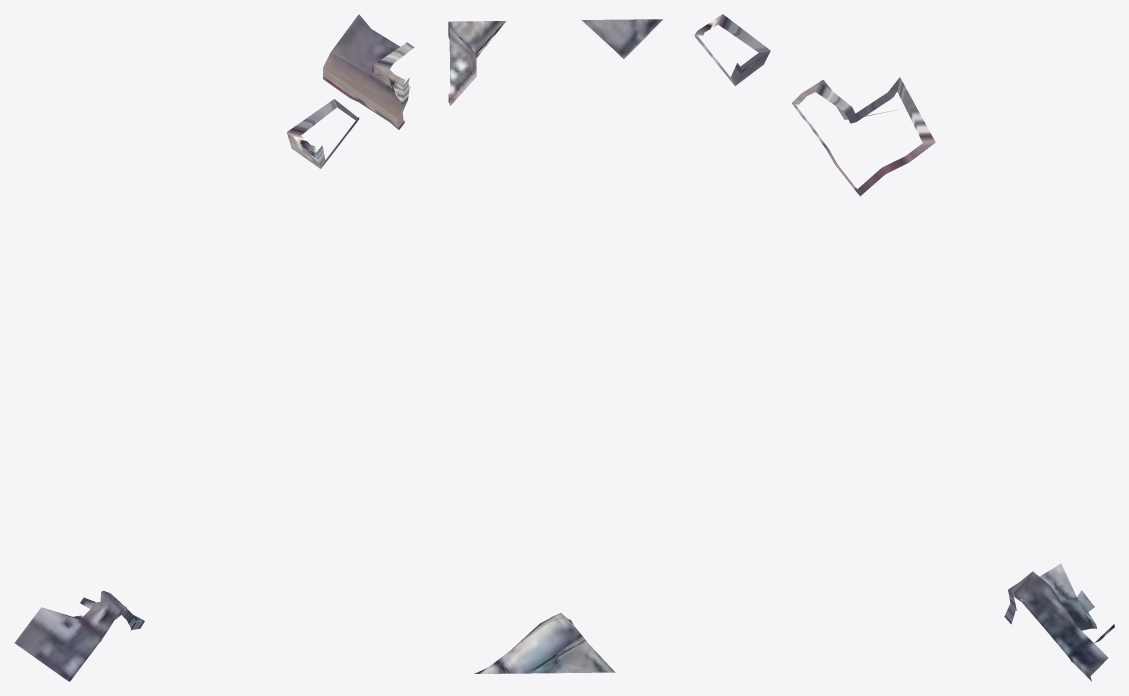
3 views of the same model, side by side, from view 1: azimuth 30°, elevation 25°; view 2: azimuth 150°, elevation 25°; view 3: azimuth 270°, elevation 25° (orthographic). The views are drawn at different scales.
Bounding box in the file's own units: 34.71 × 73.15 × 41.83.
1 material, 1 textured.
